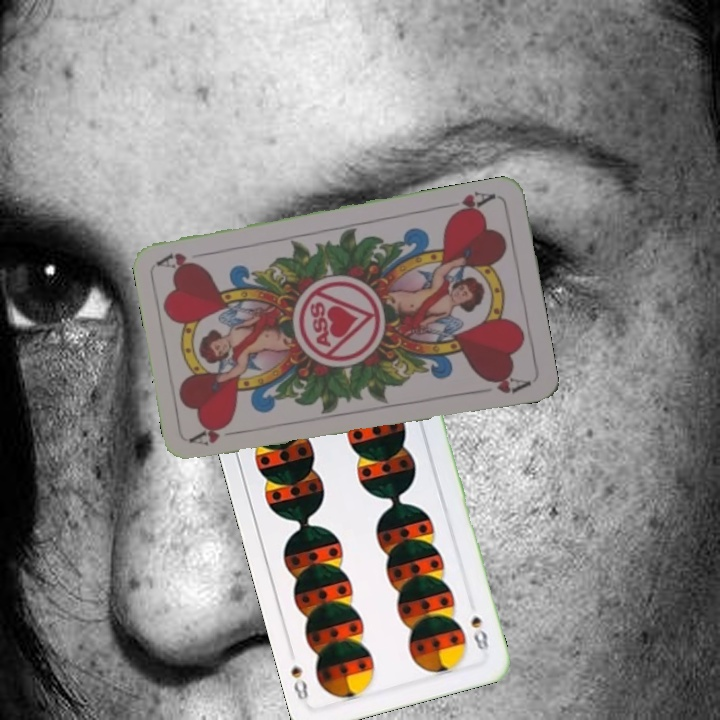HA: (441, 187, 500, 220), (187, 420, 247, 448)
S8: (467, 611, 491, 653)
